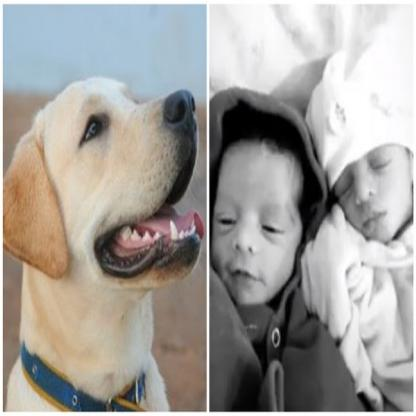dog: (1, 80, 205, 416)
